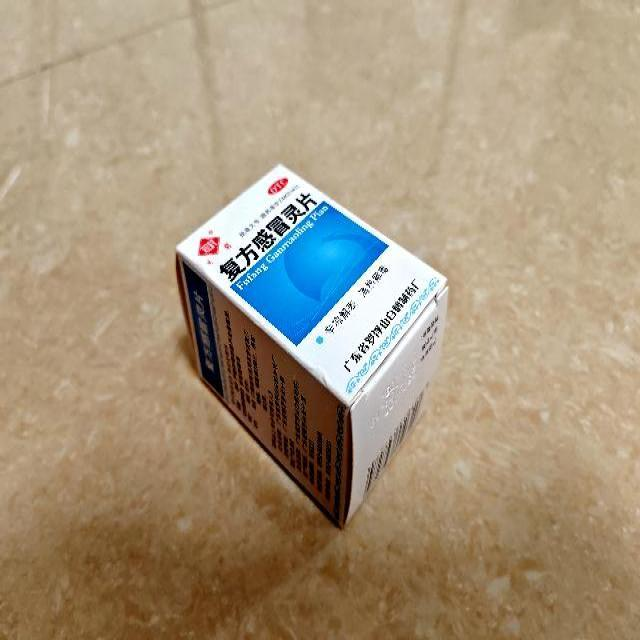box: (174, 163, 450, 530)
